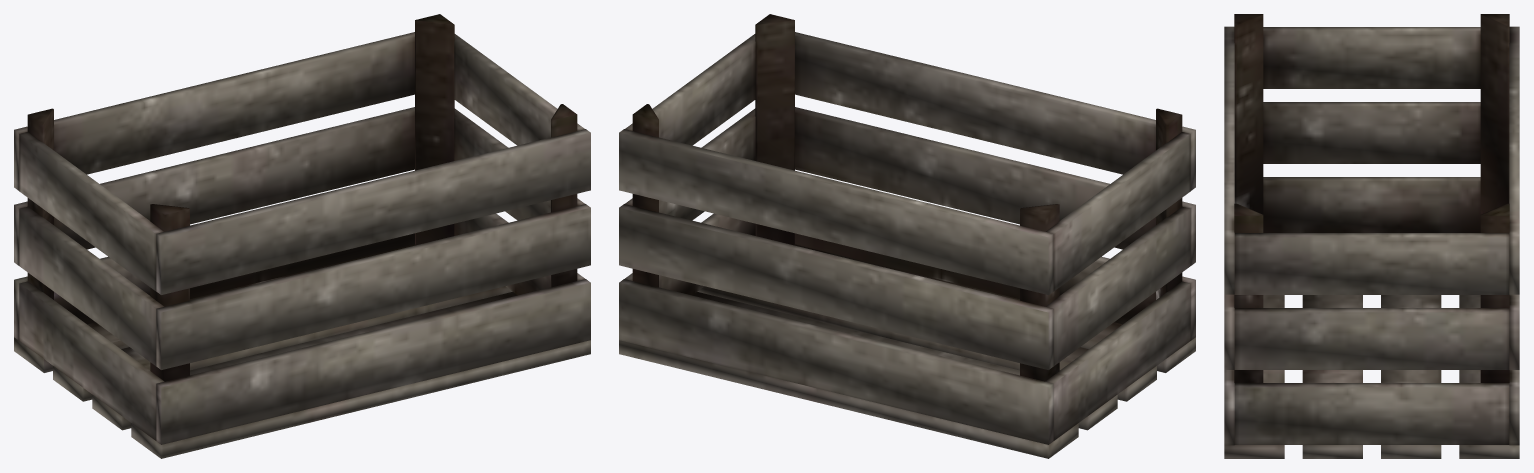
The model's file is wood-crate.gltf.
3 renders of one model, left to right at view 1: azimuth 30°, elevation 25°; view 2: azimuth 150°, elevation 25°; view 3: azimuth 270°, elevation 25°, orthographic.
Visible parts, largest first — view 1: Cube.002; view 2: Cube.002; view 3: Cube.002.
Boxes of the visible parts, bbox=[...] form: Cube.002: bbox=[14, 14, 590, 458]; Cube.002: bbox=[619, 14, 1195, 458]; Cube.002: bbox=[1224, 14, 1519, 458].
Size of the model in its own units: 0.8498 by 0.4501 by 0.5045.
1 material, 1 textured.
